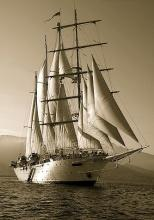fanchuan: (12, 6, 138, 180)
